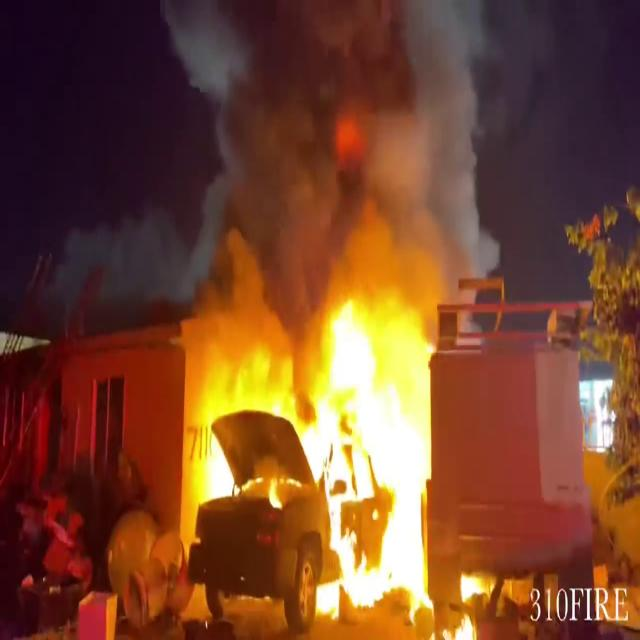Fire: (182, 271, 473, 626)
Smoke: (163, 0, 508, 311)
